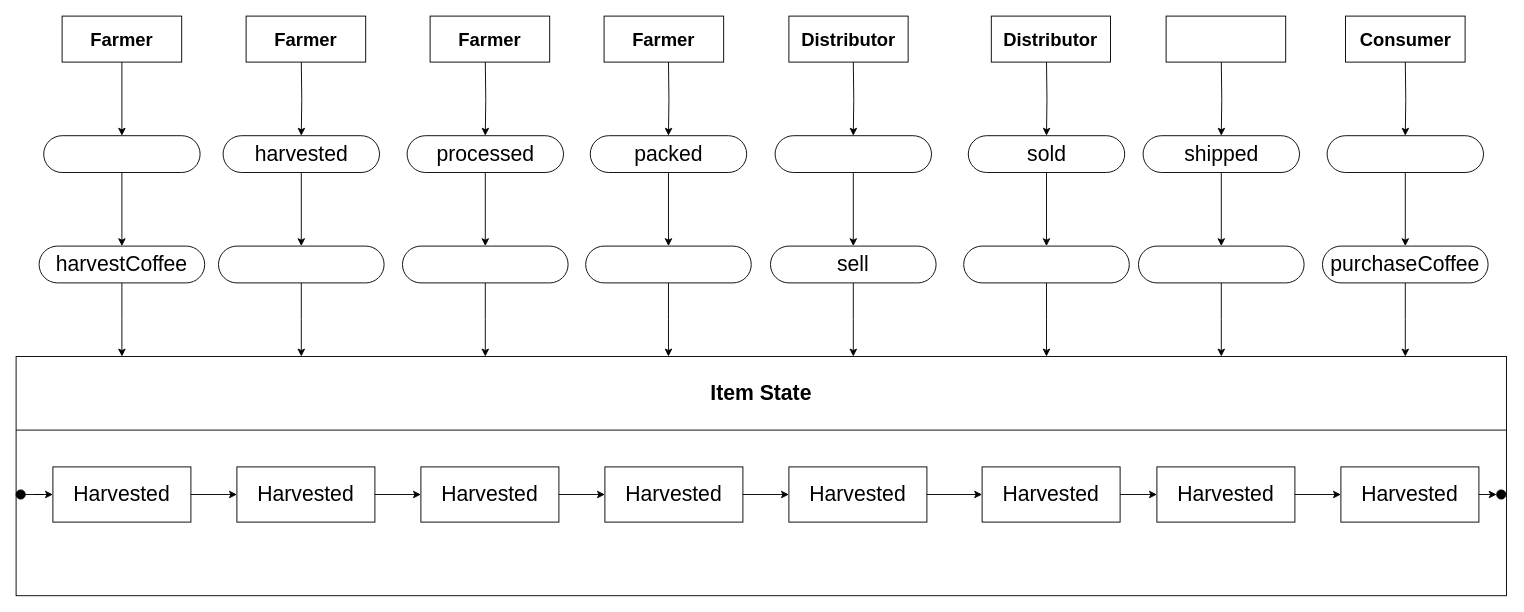
Image size: 1524x612. Some labels were removed from this diagram. The shapes that lost their labels are listed below. From the top down, each one's centre as x and y in pixels, then its label:
At point 1225,38: "retailer".
At point 121,153: "isOwner".
At point 853,153: "isBuyer".
At point 1405,153: "received".
At point 301,264: "processCoffee".
At point 485,264: "packCoffee".
At point 668,264: "sellCoffee".
At point 1046,264: "shippCoffee".
At point 1221,264: "receiveCoffee".
